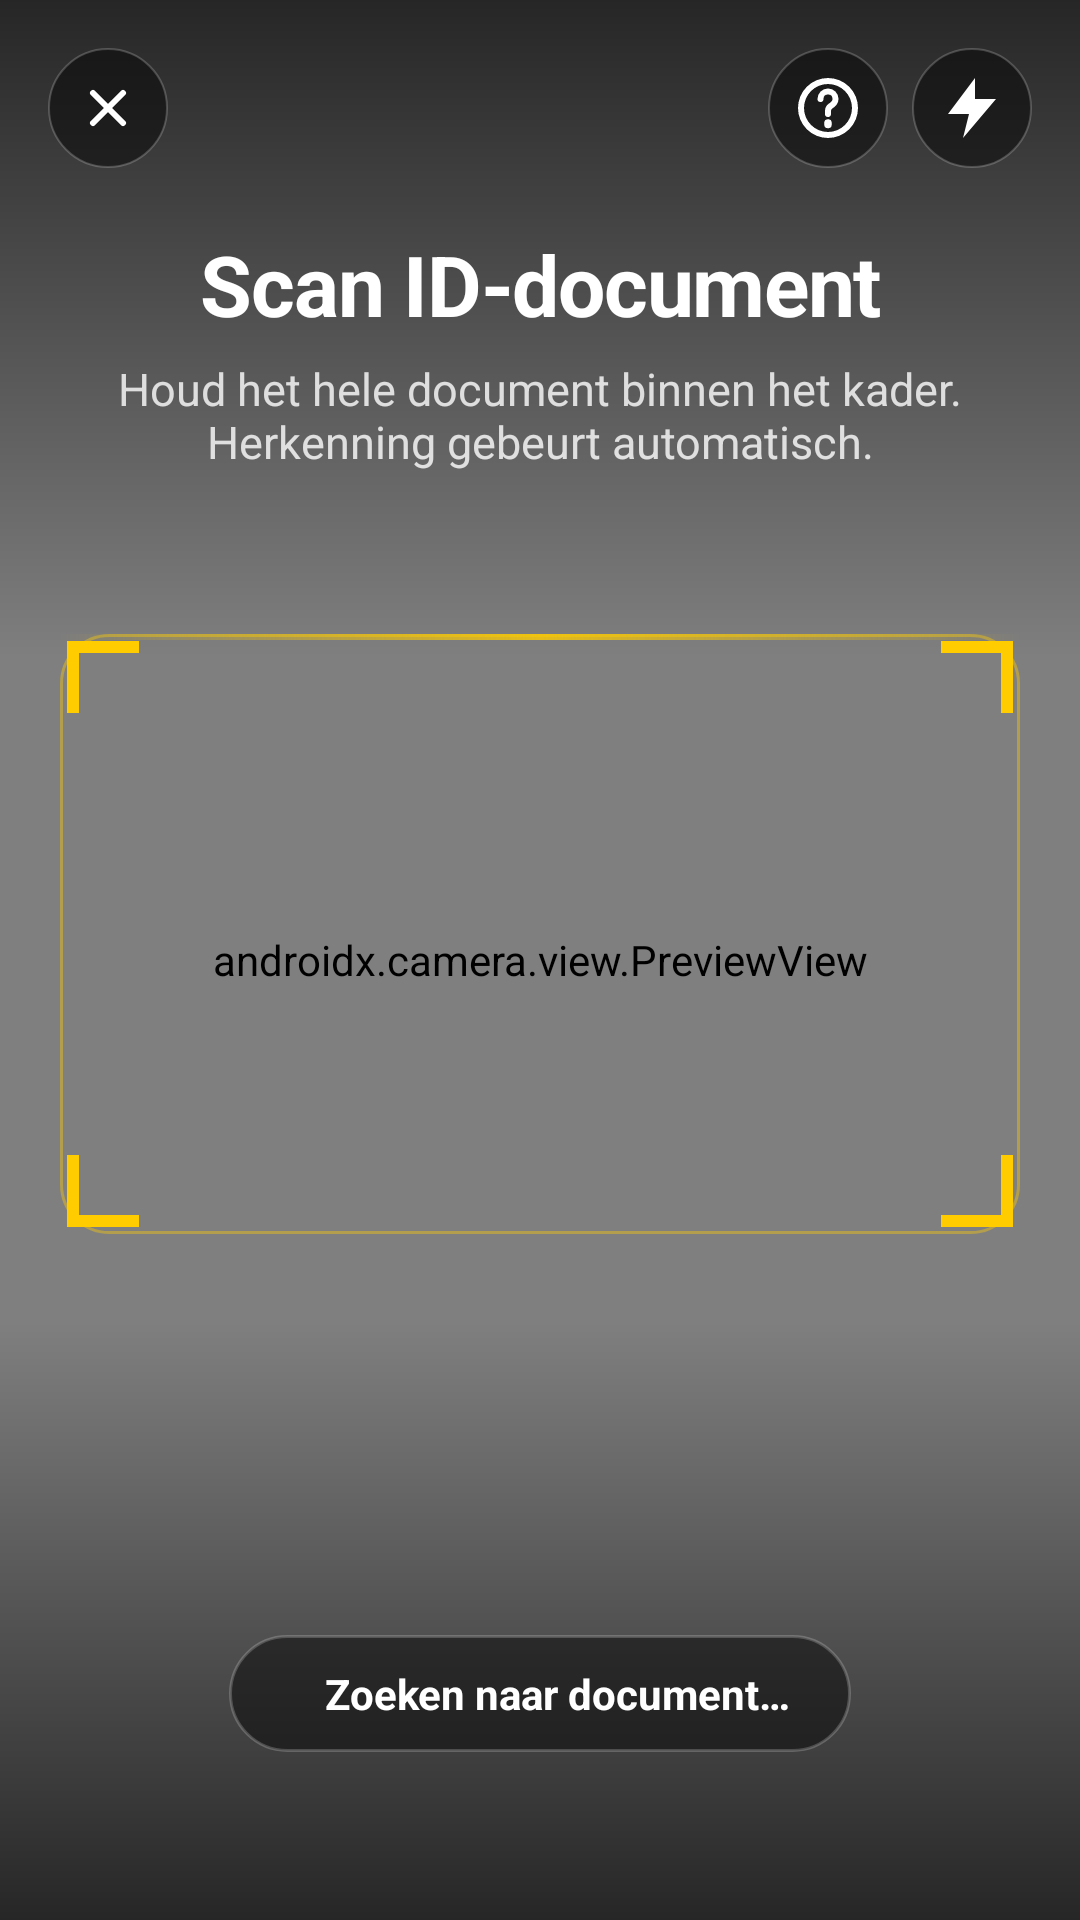

Where icons sit on this 1080w x 1920h app screen, as {"x1": x1, "y1": y1, "x2": x2, "y2": y2}:
Hulp: {"x1": 768, "y1": 48, "x2": 888, "y2": 168}
Sluiten: {"x1": 48, "y1": 48, "x2": 168, "y2": 168}
Zaklamp: {"x1": 912, "y1": 48, "x2": 1032, "y2": 168}
